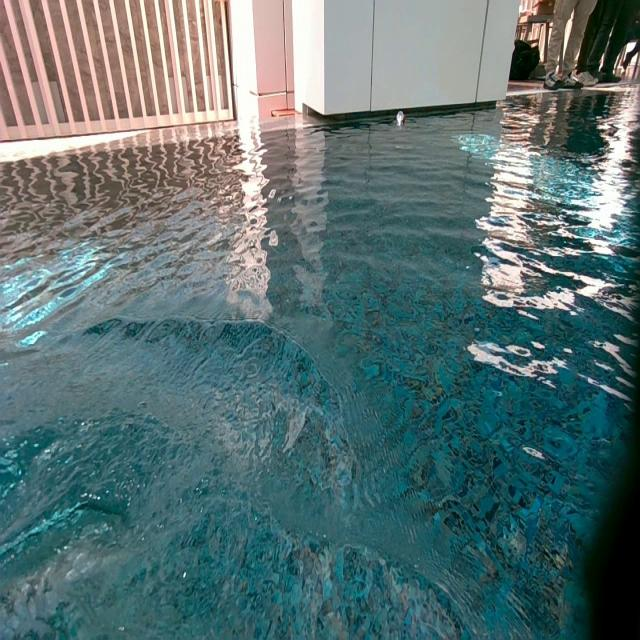Cans: (396, 110, 404, 124)
